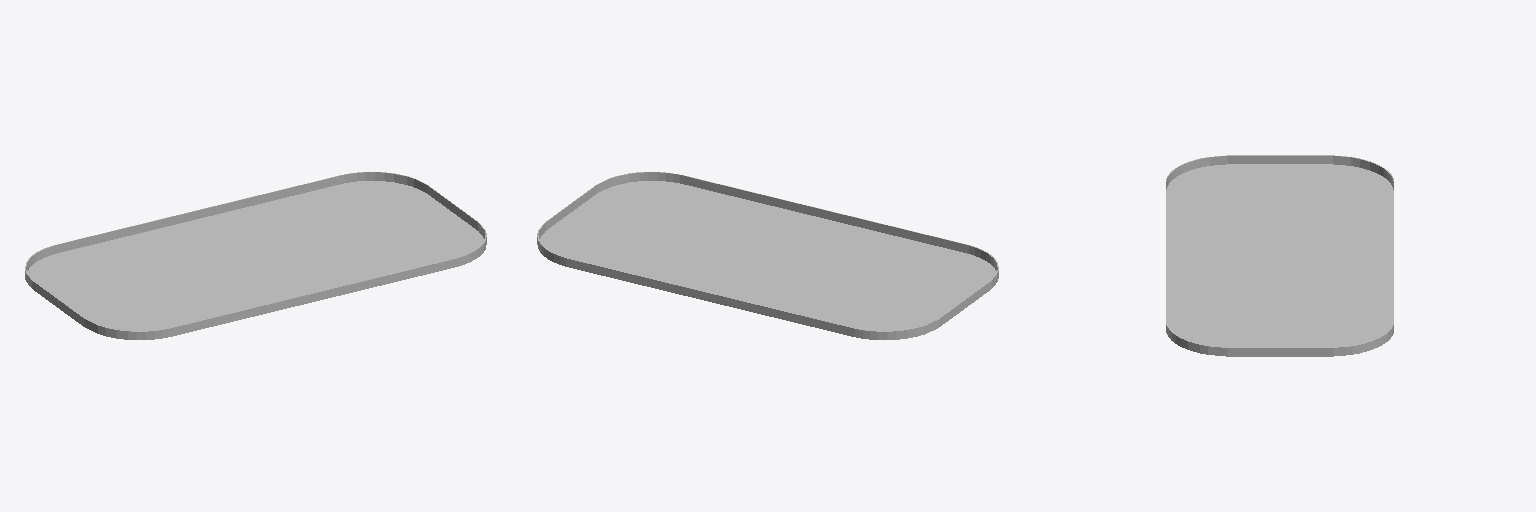
File: RinkV2.obj
The picture shows the model from 3 angles: view 1: azimuth 30°, elevation 25°; view 2: azimuth 150°, elevation 25°; view 3: azimuth 270°, elevation 25°; orthographic projection.
Visible parts, largest first — view 1: RinkV2:RoadKillOut; view 2: RinkV2:RoadKillOut; view 3: RinkV2:RoadKillOut.
Part boxes in pixels (x1,y1,x2,y2): RinkV2:RoadKillOut: (25, 172, 486, 339); RinkV2:RoadKillOut: (537, 172, 998, 339); RinkV2:RoadKillOut: (1166, 155, 1393, 356).
Bounding box in the file's own units: 60.25 × 1.25 × 30.25.